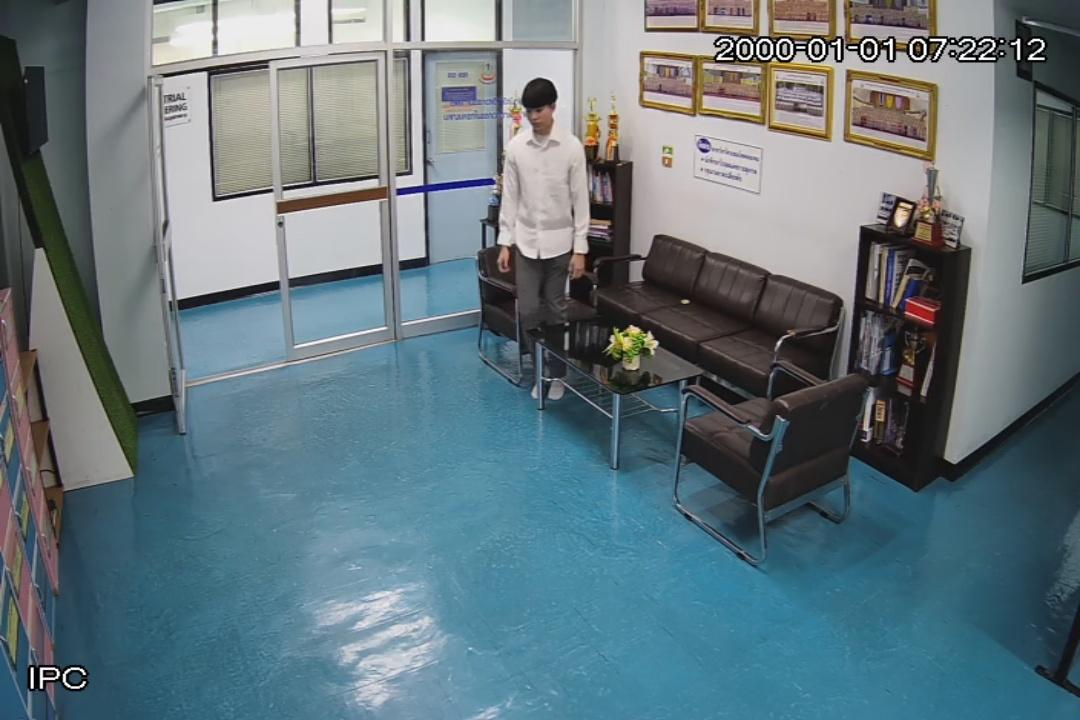normal: (497, 78, 595, 400)
